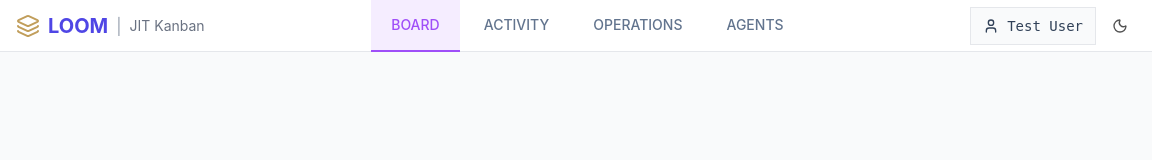
Test: TopNav › when authenticated › opens the dropdown when the user menu button is clicked
What coordinates should you click on to do the following:
click the button named "User menu"
I would click on:
 (1033, 26)
Its box is [970,6,1096,44].
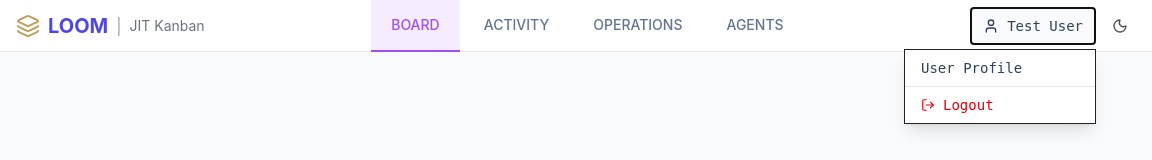
Check: the button "User Profile" is shown, box [905,50,1095,86]
Check: the text "Logout" is shown, box [943,94,994,114]
